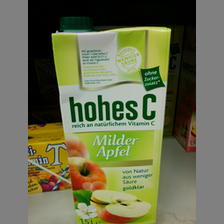juice: (50, 14, 172, 224)
